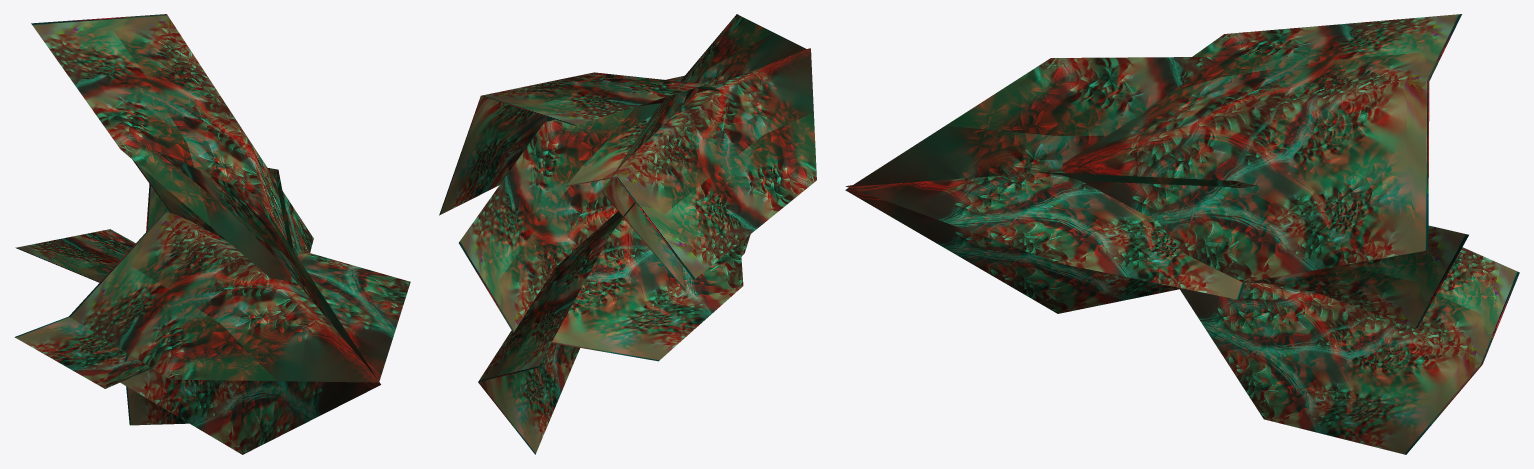
Rendered from Bush_06_04.fbx.
3 renders of one model, left to right at view 1: azimuth 30°, elevation 25°; view 2: azimuth 150°, elevation 25°; view 3: azimuth 270°, elevation 25°, orthographic. The views are drawn at different scales.
Parts seen in each view (by area): view 1: Bush_06_04; view 2: Bush_06_04; view 3: Bush_06_04.
Part boxes in pixels (x1,y1,x2,y2): Bush_06_04: (14, 14, 410, 454); Bush_06_04: (439, 14, 816, 454); Bush_06_04: (845, 14, 1519, 454).
Bounding box in the file's own units: 2.56 × 3.99 × 6.02.
